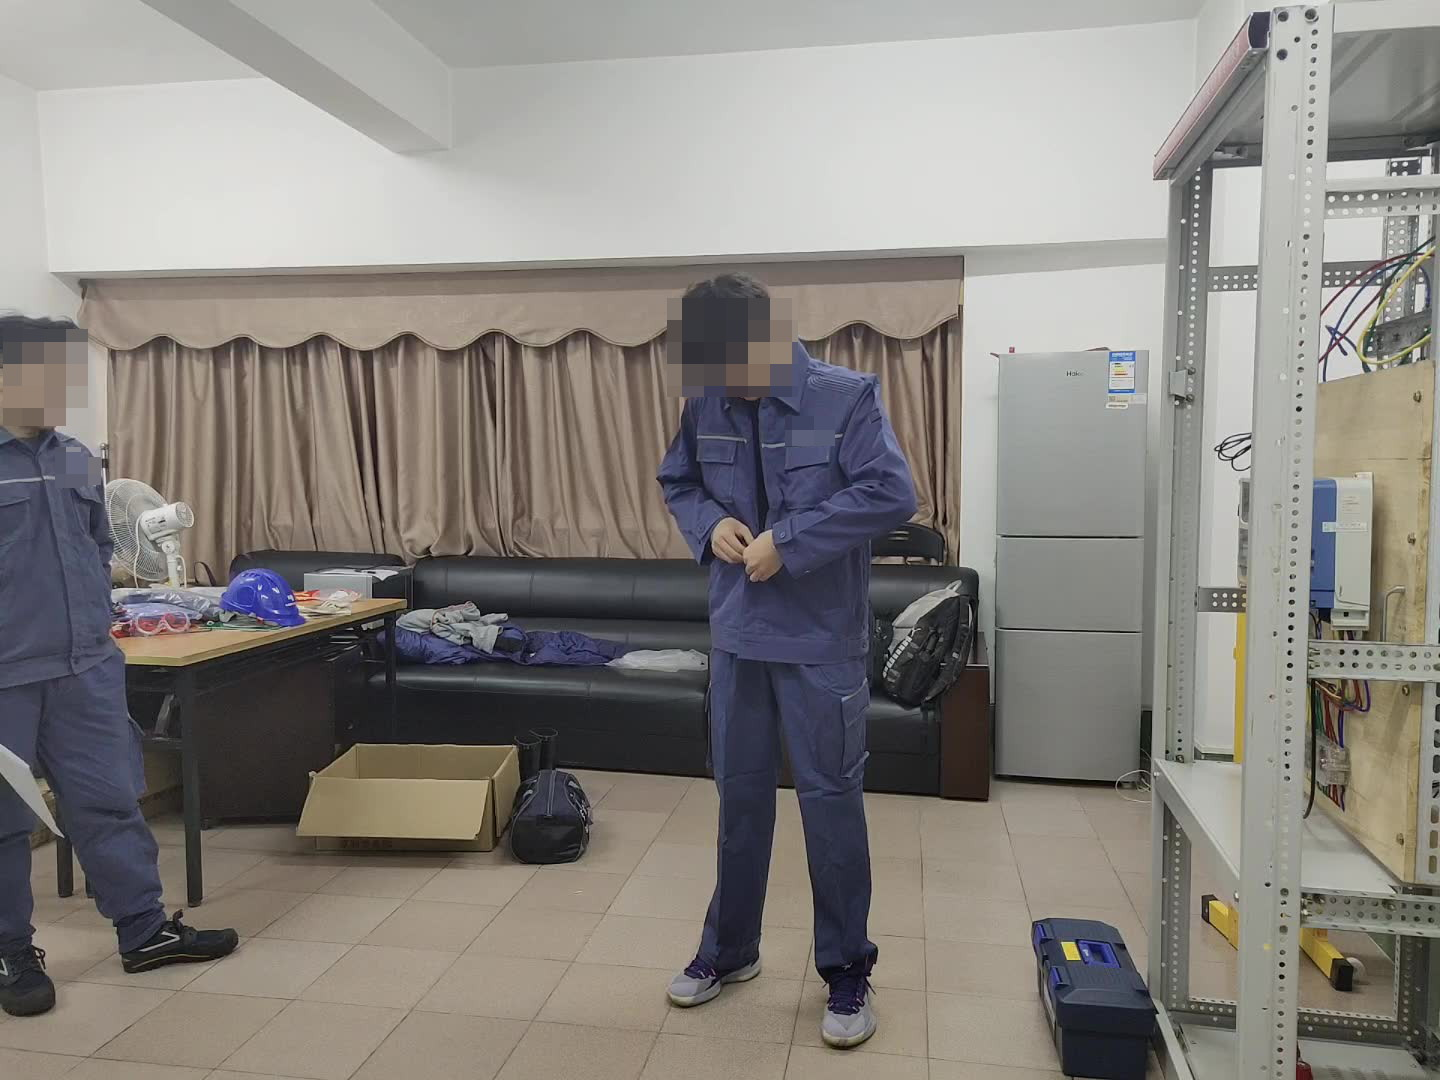downsuit: (691, 660, 885, 964), (1, 689, 165, 947)
hand: (710, 510, 754, 564), (742, 524, 779, 584)
noear: (742, 307, 781, 378)
person: (654, 273, 932, 1054), (1, 310, 238, 1020)
unhalt: (667, 276, 789, 399), (1, 311, 89, 437)
upsuit: (655, 339, 929, 657), (1, 430, 125, 680)
wrongsuit: (736, 394, 785, 543)
